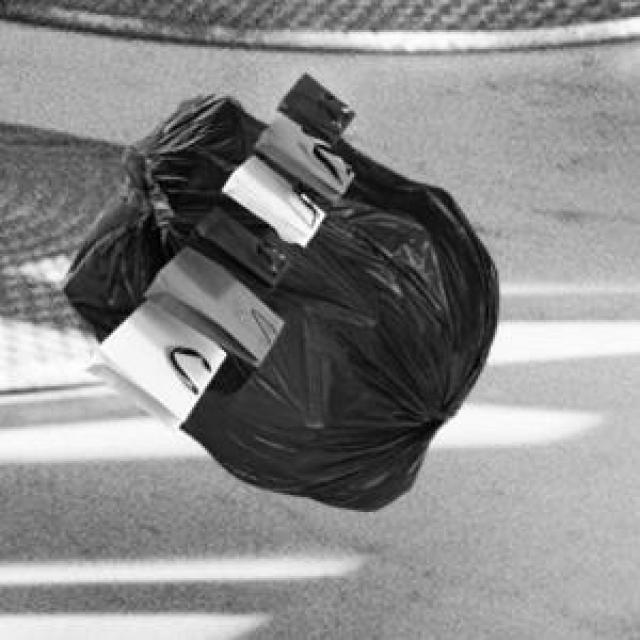miscellaneous trash: (58, 88, 495, 508)
paper: (81, 70, 350, 427)
